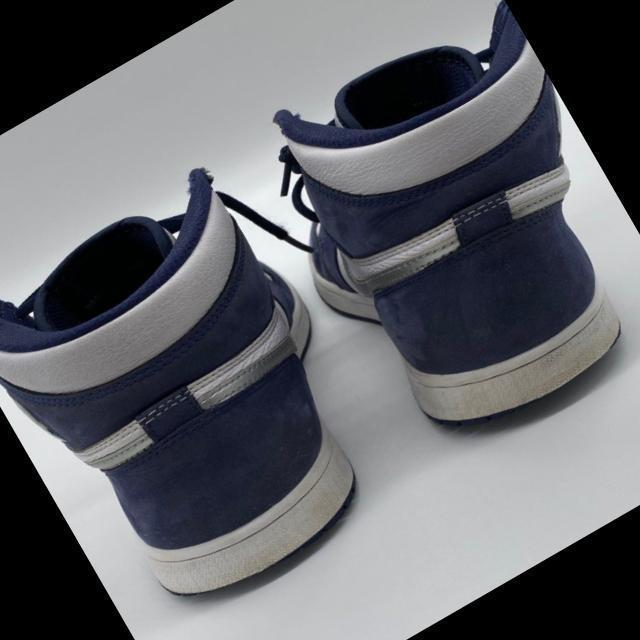nike original jordan 1: (221, 0, 640, 477), (0, 158, 412, 640)
